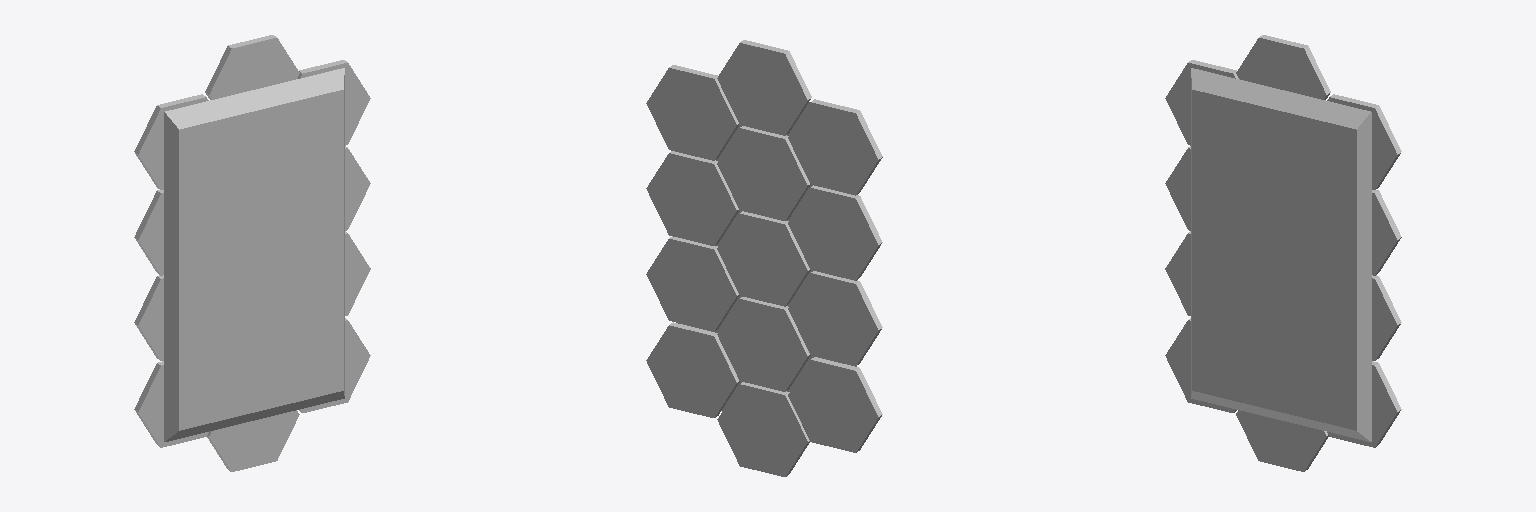
The model's file is mirror2alt.obj.
The picture shows the model from 3 angles: view 1: azimuth 30°, elevation 25°; view 2: azimuth 150°, elevation 25°; view 3: azimuth 330°, elevation 25°; orthographic projection.
Parts seen in each view (by area): view 1: Cylinder.011_Cylinder.009; view 2: Cylinder.011_Cylinder.009; view 3: Cylinder.011_Cylinder.009.
Boxes of the visible parts, x1=… form: Cylinder.011_Cylinder.009: x1=134, y1=35, x2=370, y2=471; Cylinder.011_Cylinder.009: x1=646, y1=40, x2=882, y2=476; Cylinder.011_Cylinder.009: x1=1165, y1=35, x2=1401, y2=471.
Size of the model in its own units: 1.73 by 3.02 by 0.1439.